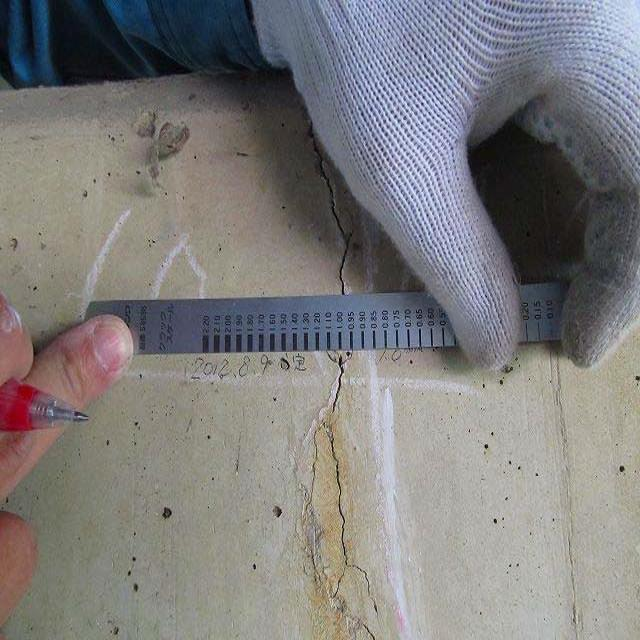crack: (313, 354, 400, 636), (298, 118, 368, 302)
